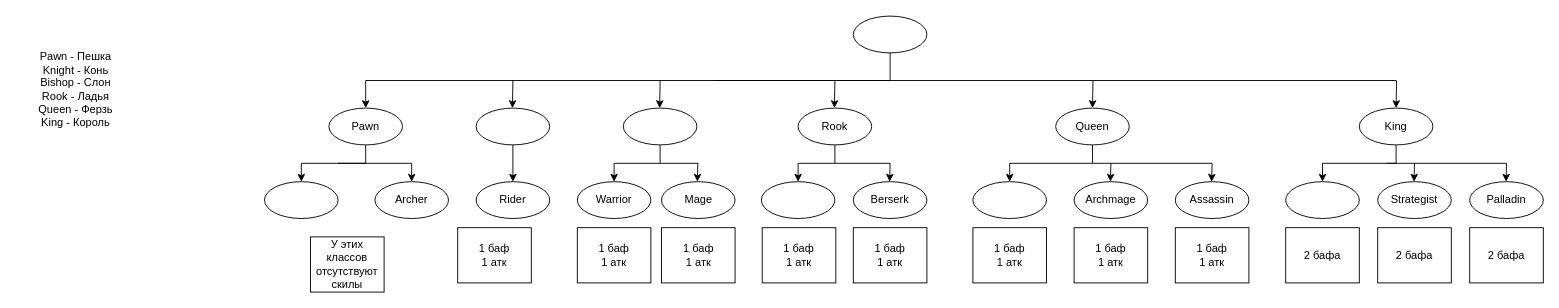
This 1559x308 diagram has some shape labels left out. The centre of each missing label's shape, as x and y in pixels:
Bishop: the point at 659,126
Caster: the point at 1322,199
Champion: the point at 1009,199
Figure: the point at 889,34
Knight: the point at 512,126
Shielder: the point at 797,199
Swordsmen: the point at 301,199
